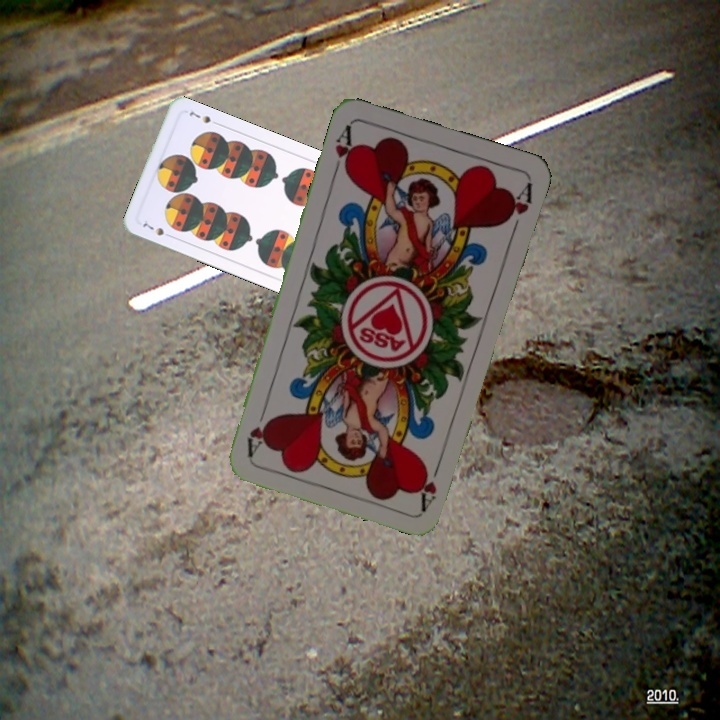HA: (329, 121, 358, 179), (416, 454, 444, 512)
S7: (138, 219, 176, 240)
